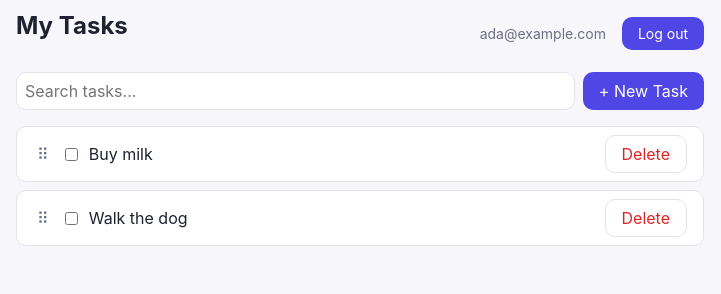
Test case: TaskListPage › shows an error and keeps the task when deleting fails
Check: the link "Buy milk" is shown, box [89,144,153,164]
Step 1. Click the button with aria-label "Delete Buy milk" → (646, 154), box [604,135,687,173]
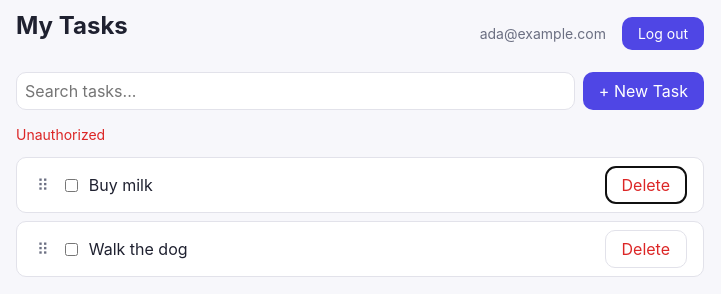
Check: the link "Buy milk" is shown, box [89,175,153,195]
Check: the message reads "Unauthorized", box [16,126,105,143]
